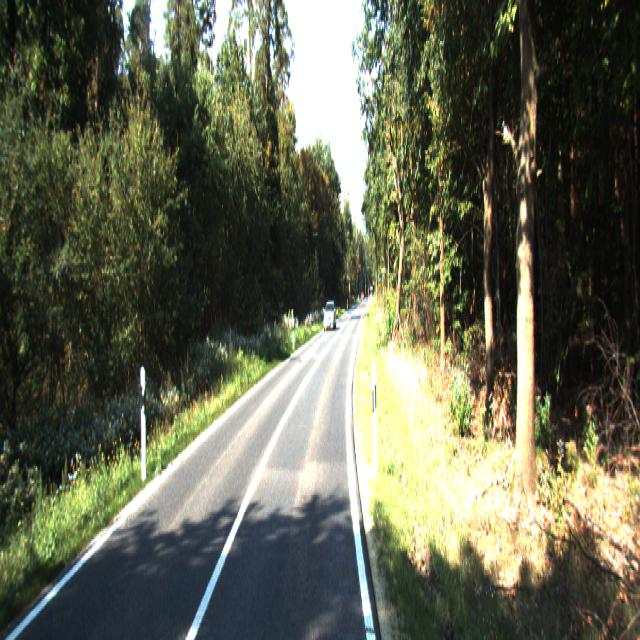Car: (323, 300, 338, 331)
